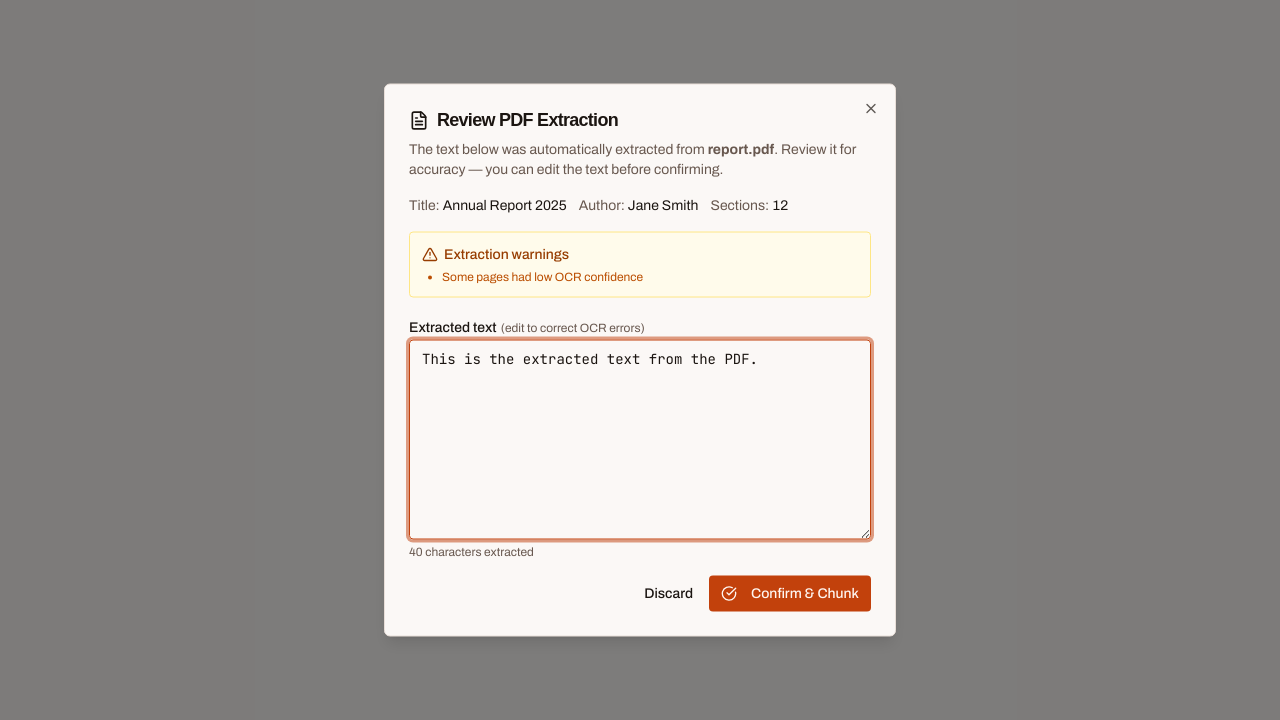
PdfPreviewModal › shows error message when confirm fails
Click the button "Confirm & Chunk": (790, 594) [709,576,871,612]
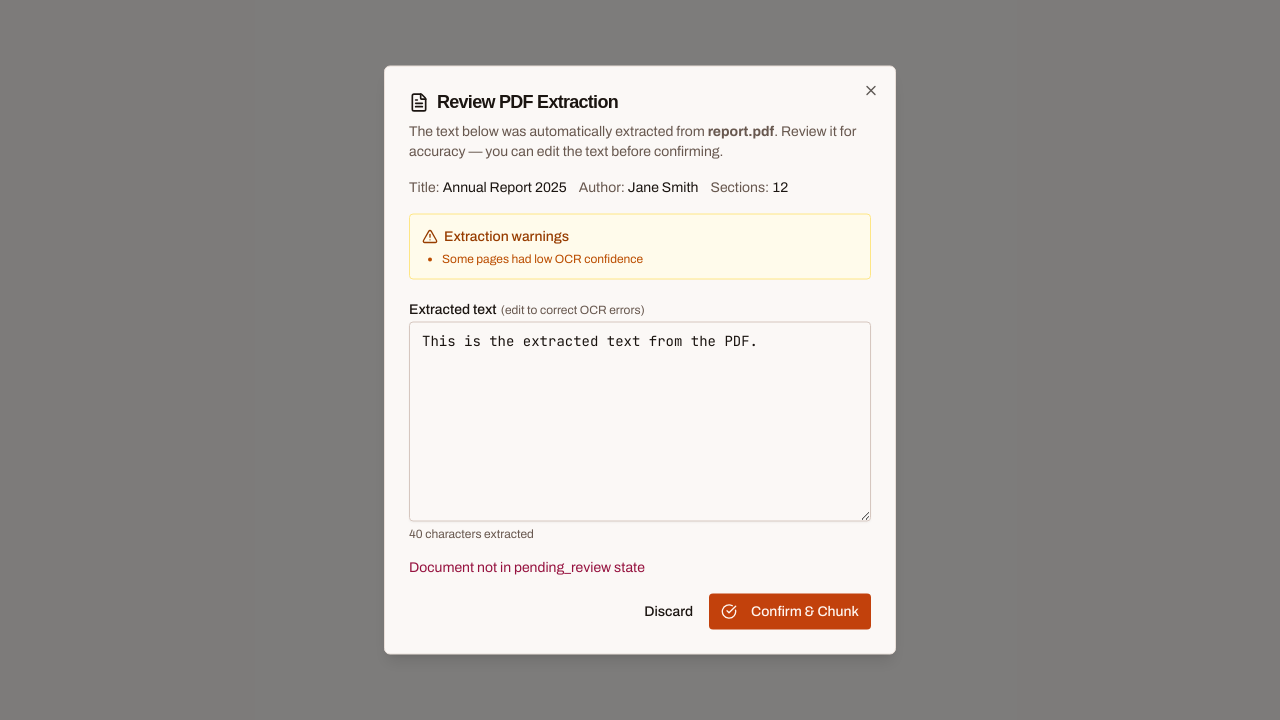
Expected: the text "Document not in pending_review state" is shown, [409,560,645,574]
